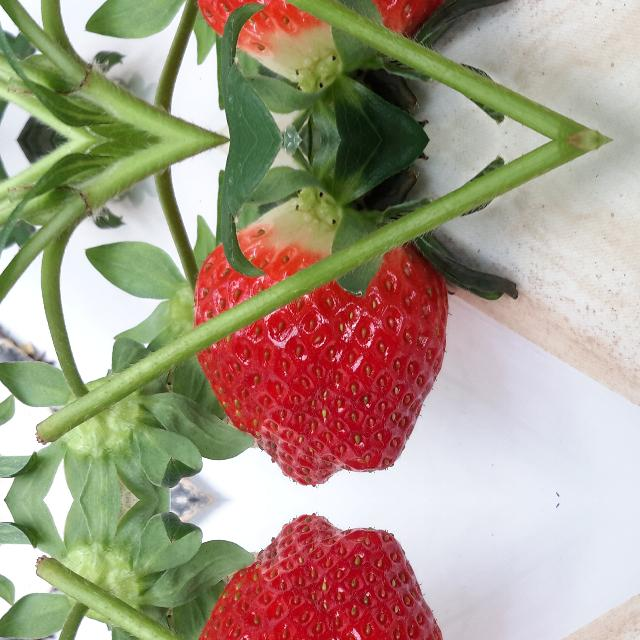Health_100: (190, 197, 454, 488), (190, 512, 454, 640), (190, 0, 454, 83)
